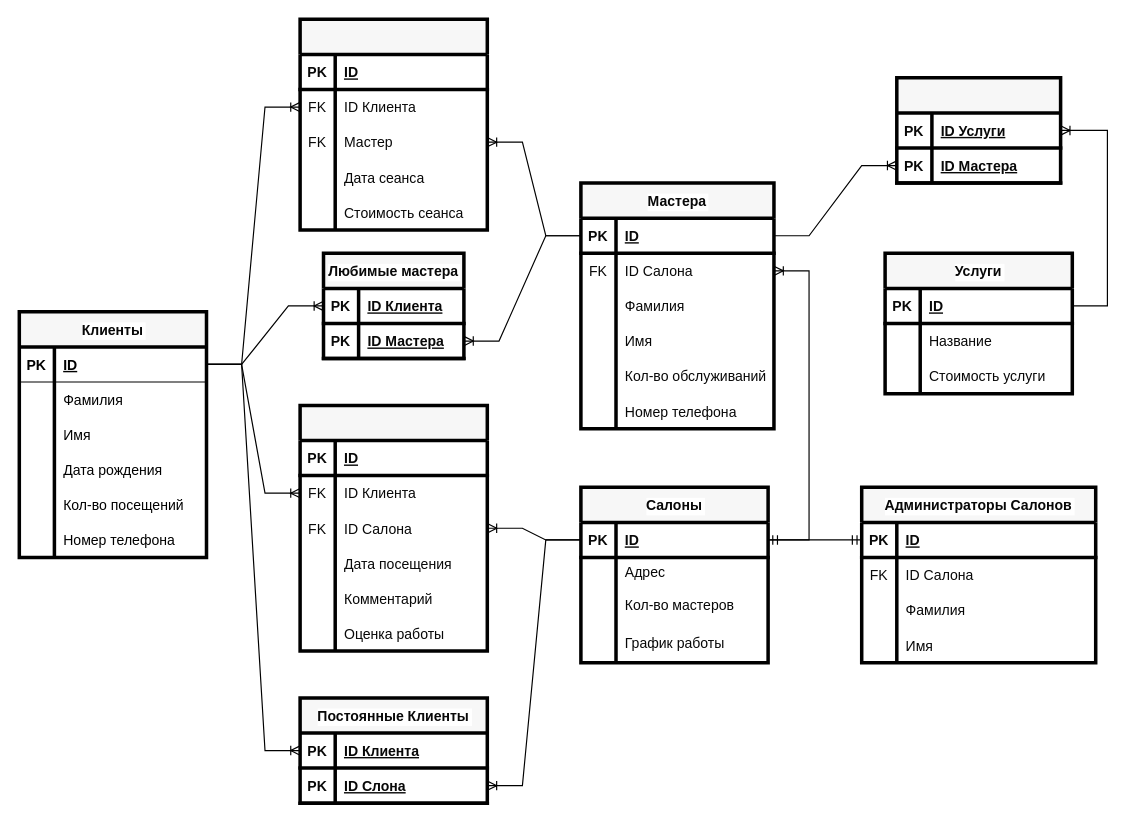
This 1127x823 diagram has some shape labels left out. Each missing label, with the box of its shape:
Отзывы: (298, 403, 488, 652)
Сеансы: (298, 17, 488, 231)
Услуги - Мастера: (894, 75, 1062, 184)
